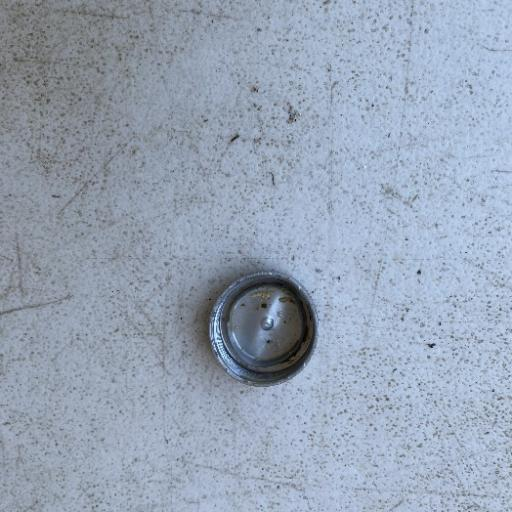Plastic: (206, 270, 319, 388)
